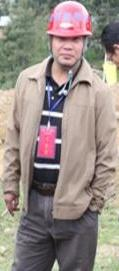hard-hat: (45, 0, 93, 37)
